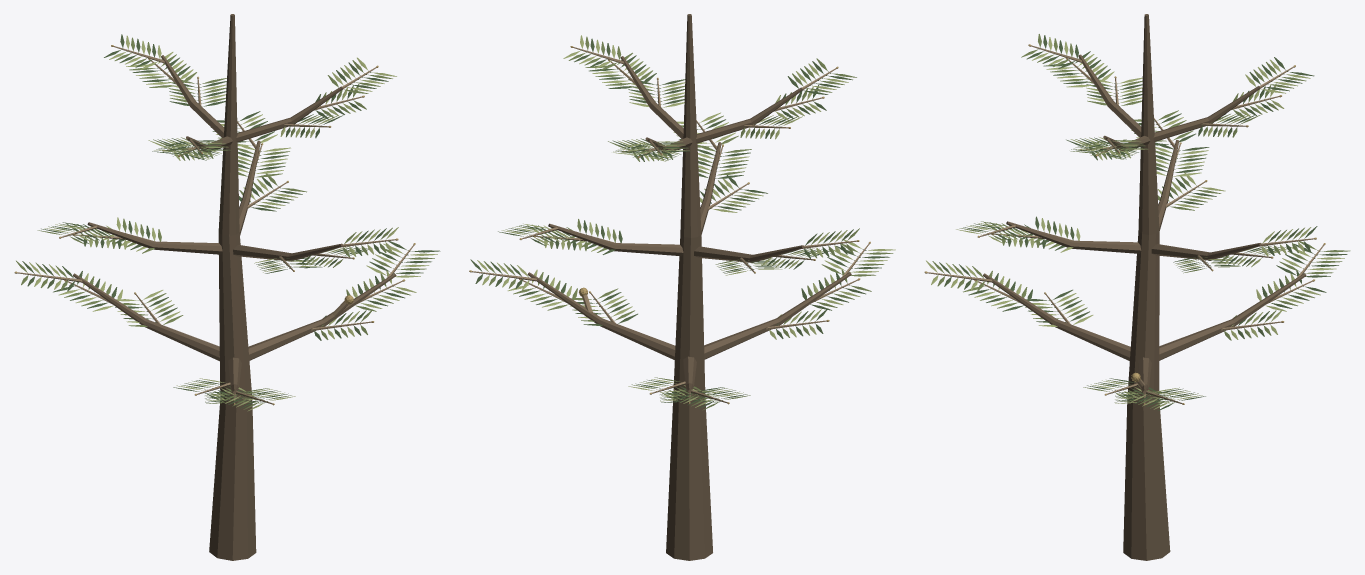
The model's file is agathis.glb.
The picture shows the model from 3 angles, left to right: view 1: azimuth 30°, elevation 25°; view 2: azimuth 150°, elevation 25°; view 3: azimuth 270°, elevation 25°; orthographic projection.
Parts seen in each view (by area): view 1: agathis-zamunerae-restrained-tree; view 2: agathis-zamunerae-restrained-tree; view 3: agathis-zamunerae-restrained-tree.
Part boxes in pixels (box(x1,y1,x2,y2)): agathis-zamunerae-restrained-tree: box(14, 14, 440, 560); agathis-zamunerae-restrained-tree: box(469, 14, 895, 560); agathis-zamunerae-restrained-tree: box(924, 14, 1350, 560).
Size of the model in its own units: 1.61 by 2.1 by 1.51.
